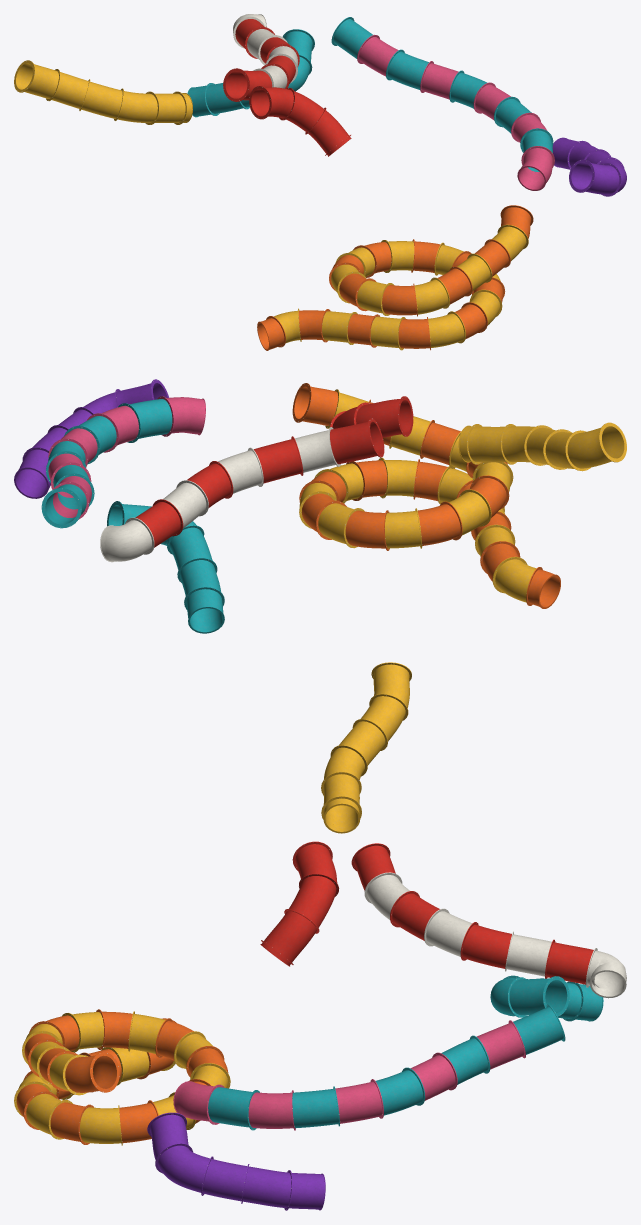
The model's file is inseguimento_tubi.glb.
The picture shows the model from 3 angles, top to bottom: view 1: azimuth 30°, elevation 25°; view 2: azimuth 150°, elevation 25°; view 3: azimuth 270°, elevation 25°; orthographic projection. The views are drawn at different scales.
Visible parts, largest first — view 1: ins_A_tubo_3, ins_A_tubo_2, ins_A_tubo_0, ins_A_tubo_1, ins_A_scolo_0, ins_A_scolo_2, ins_A_scolo_1; view 2: ins_A_tubo_3, ins_A_tubo_1, ins_A_tubo_2, ins_A_tubo_0, ins_A_scolo_1, ins_A_scolo_2, ins_A_scolo_0; view 3: ins_A_tubo_3, ins_A_tubo_2, ins_A_tubo_1, ins_A_scolo_2, ins_A_tubo_0, ins_A_scolo_0, ins_A_scolo_1.
Part boxes in pixels (left/top/right/bottom): ins_A_tubo_3: left=257, top=205, right=533, bottom=350; ins_A_tubo_2: left=331, top=17, right=554, bottom=190; ins_A_tubo_0: left=14, top=60, right=192, bottom=124; ins_A_tubo_1: left=223, top=14, right=299, bottom=101; ins_A_scolo_0: left=249, top=86, right=351, bottom=156; ins_A_scolo_2: left=552, top=137, right=626, bottom=196; ins_A_scolo_1: left=187, top=29, right=314, bottom=117; ins_A_tubo_3: left=292, top=383, right=560, bottom=608; ins_A_tubo_1: left=100, top=418, right=384, bottom=562; ins_A_tubo_2: left=41, top=396, right=205, bottom=528; ins_A_tubo_0: left=458, top=422, right=626, bottom=471; ins_A_scolo_1: left=107, top=501, right=224, bottom=633; ins_A_scolo_2: left=14, top=379, right=169, bottom=498; ins_A_scolo_0: left=330, top=396, right=413, bottom=437; ins_A_tubo_3: left=14, top=1009, right=230, bottom=1145; ins_A_tubo_2: left=173, top=1004, right=565, bottom=1130; ins_A_tubo_1: left=351, top=843, right=626, bottom=998; ins_A_scolo_2: left=147, top=1112, right=325, bottom=1210; ins_A_tubo_0: left=321, top=662, right=411, bottom=833; ins_A_scolo_0: left=260, top=841, right=339, bottom=966; ins_A_scolo_1: left=490, top=975, right=603, bottom=1021.
Bounding box in the file's own units: 36.02 × 16.35 × 29.47.
Materials: 8 (8 with a texture image).
